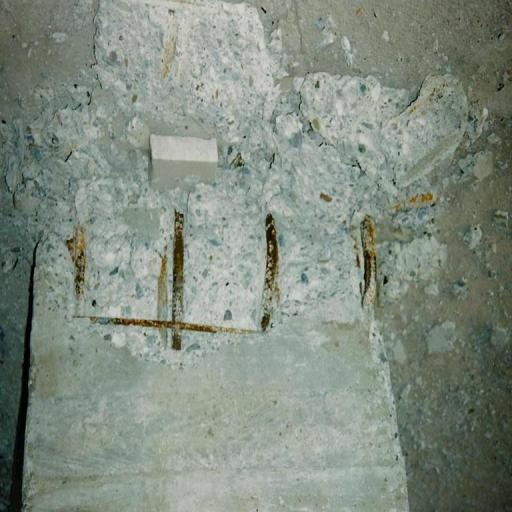spalling: (45, 211, 378, 364)
